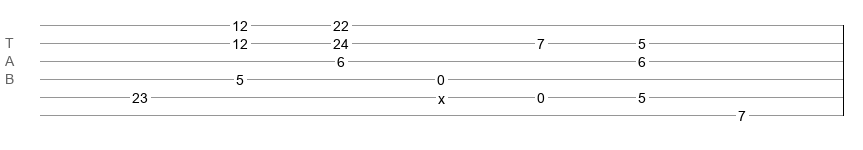0: (437, 72, 445, 82), (537, 90, 545, 100)
12: (232, 18, 248, 28), (232, 36, 248, 46)
22: (333, 18, 349, 28)
23: (132, 90, 148, 100)
24: (333, 36, 349, 46)
5: (236, 72, 244, 82), (638, 90, 646, 100), (638, 36, 646, 46)
6: (337, 54, 345, 64), (638, 54, 646, 64)
7: (537, 36, 545, 46), (738, 108, 746, 118)
x: (438, 91, 445, 99)
